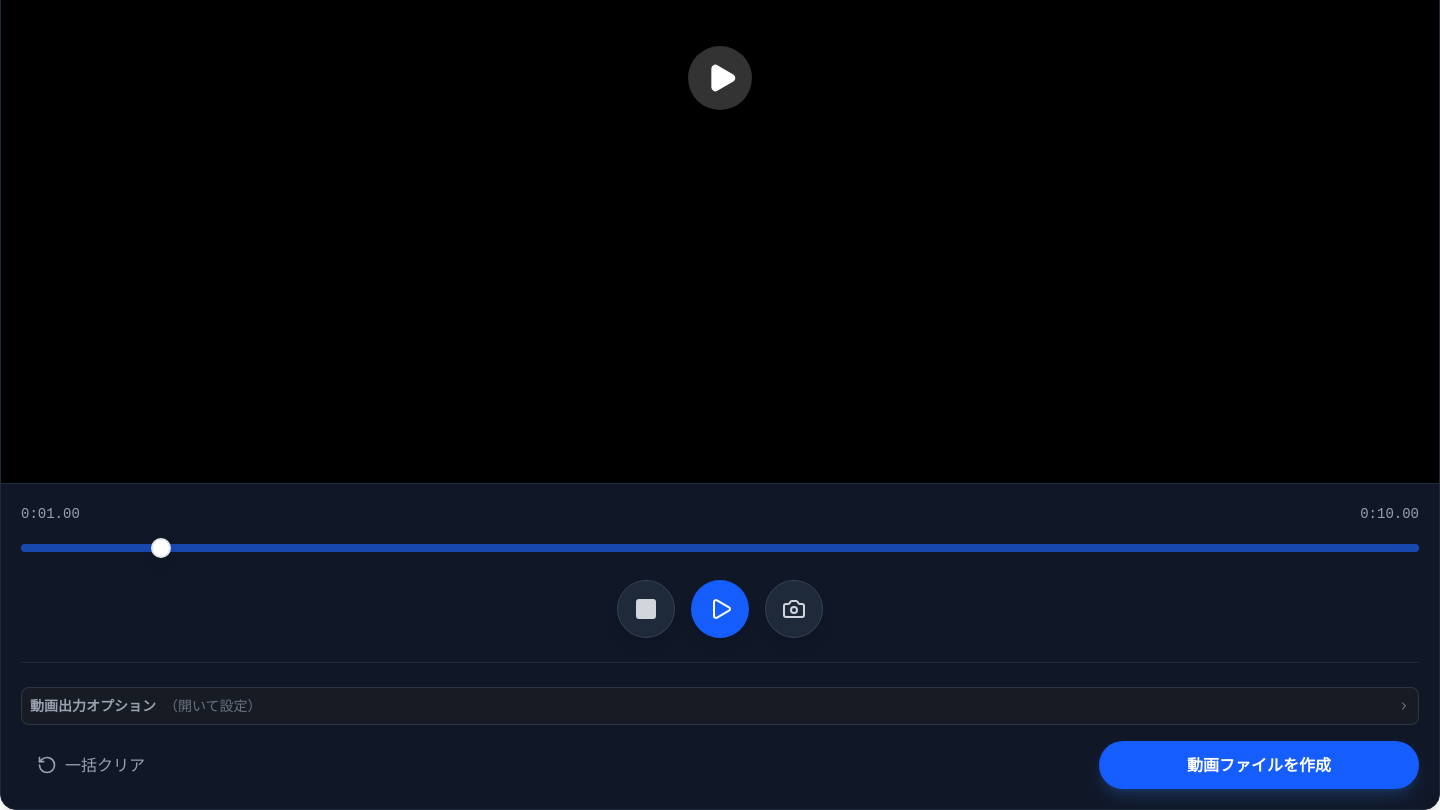
it: PreviewSection action buttons › 自動設定で画像が無いときは未表示にする
The width and height of the screenshot is (1440, 810).
(page scrolled)
What coordinates should you click on to do the following:
click the button "動画出力オプション （開いて設定）"
I would click on:
 (93, 705)
Its box is [22, 688, 1418, 724].
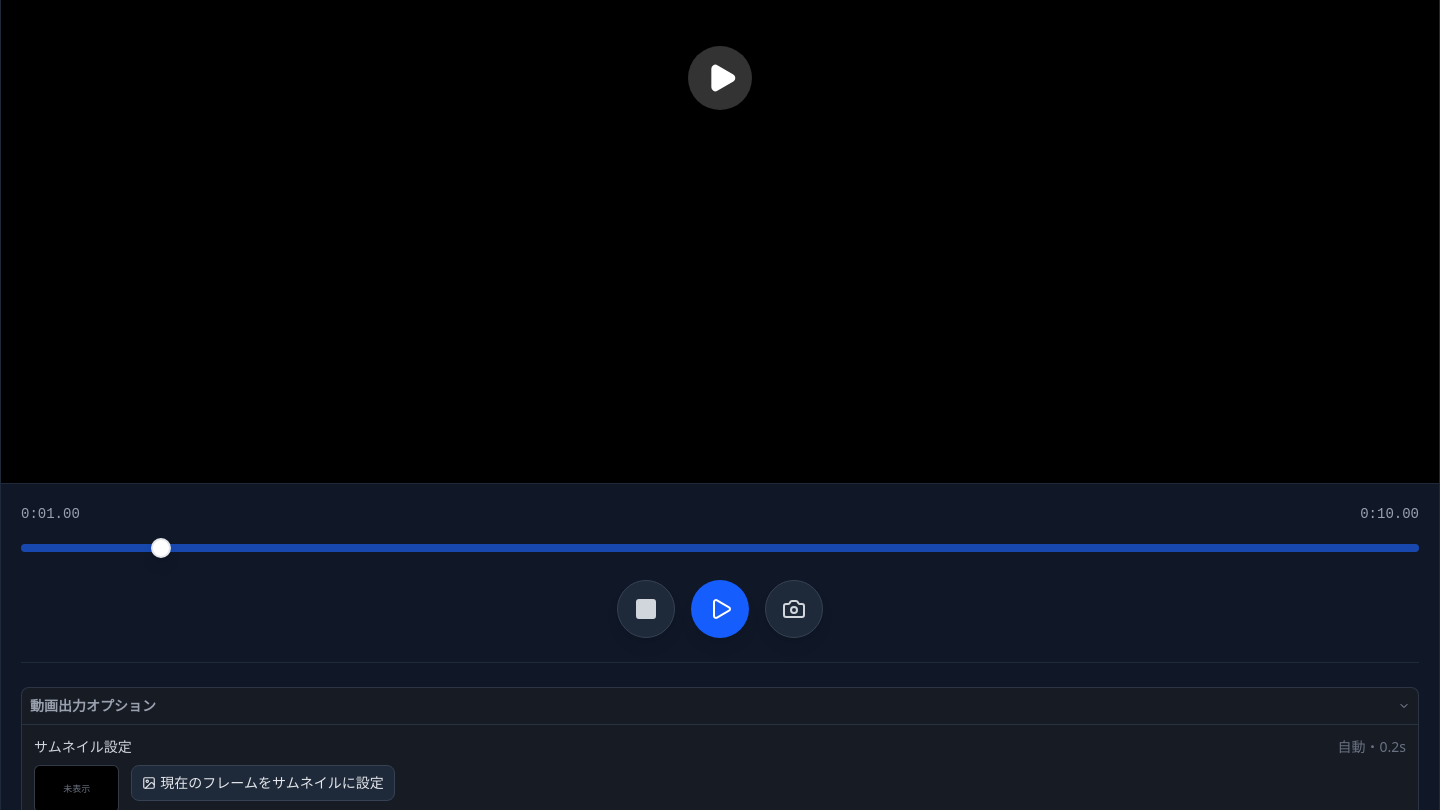
Expected: the text "未表示" is shown, [63, 782, 90, 795]
